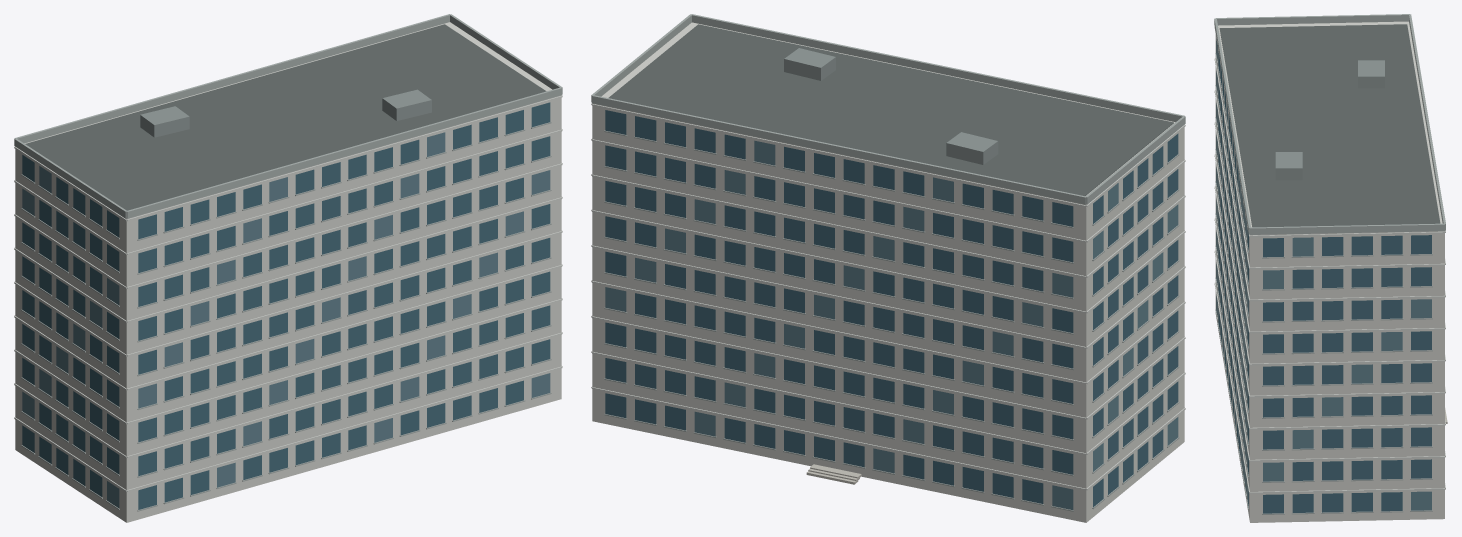
The model's file is 软件园与科创楼-012.glb.
The picture shows the model from 3 angles, left to right: view 1: azimuth 30°, elevation 25°; view 2: azimuth 150°, elevation 25°; view 3: azimuth 270°, elevation 25°; orthographic projection. The views are drawn at different scales.
Parts seen in each view (by area): view 1: 软件园与科创楼-012; view 2: 软件园与科创楼-012; view 3: 软件园与科创楼-012.
Boxes of the visible parts, x1,y1,x2,y2 form: 软件园与科创楼-012: [14, 14, 562, 522]; 软件园与科创楼-012: [591, 14, 1185, 522]; 软件园与科创楼-012: [1214, 14, 1447, 522].
Size of the model in its own units: 52.61 by 34.42 by 24.16.
